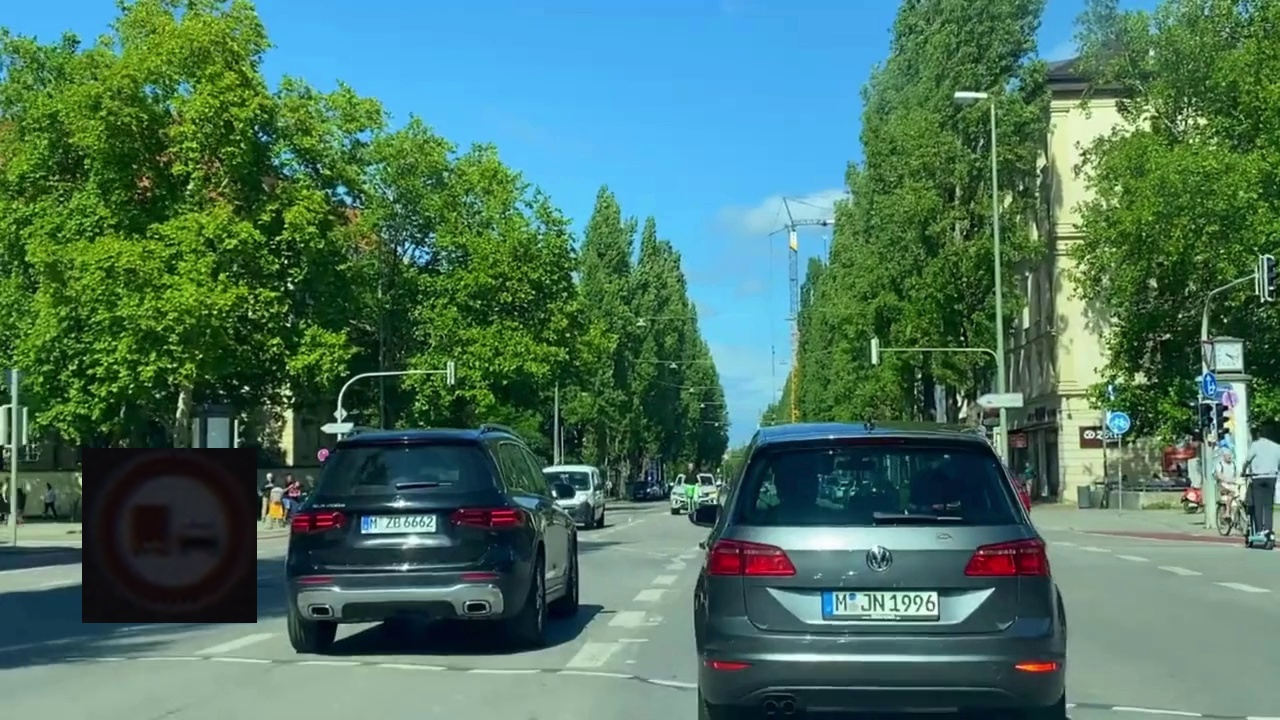No pass >3.5t: (82, 448, 257, 623)
